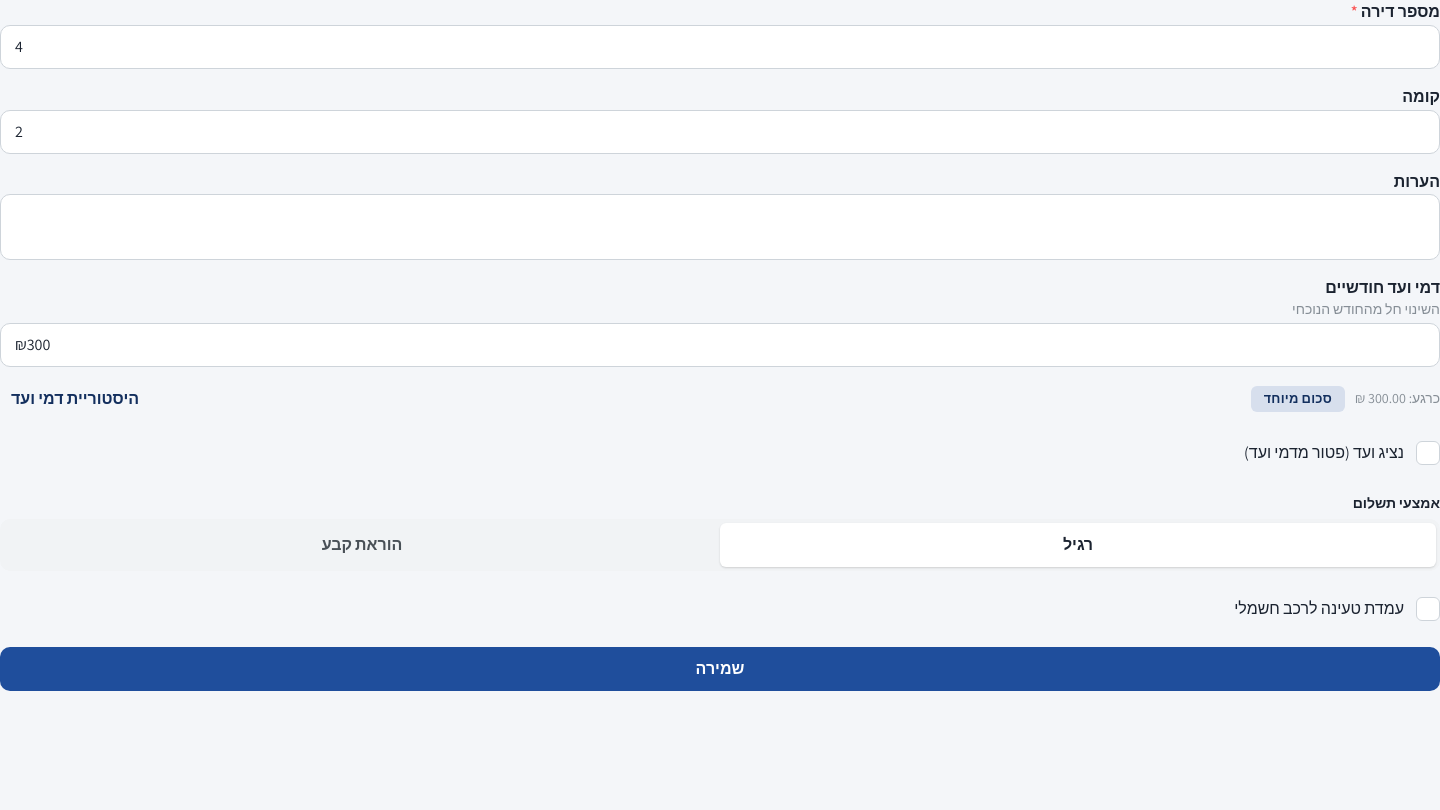
ApartmentForm with saved data › keeps an unsaved committee choice when the sheet refreshes the fee
Expected: the field labelled "דמי ועד חודשיים" holds "₪300", [0, 323, 1439, 367]
Click the checkbox labelled "נציג ועד (פטור מדמי ועד)" at (1428, 453), box [1416, 441, 1439, 465]
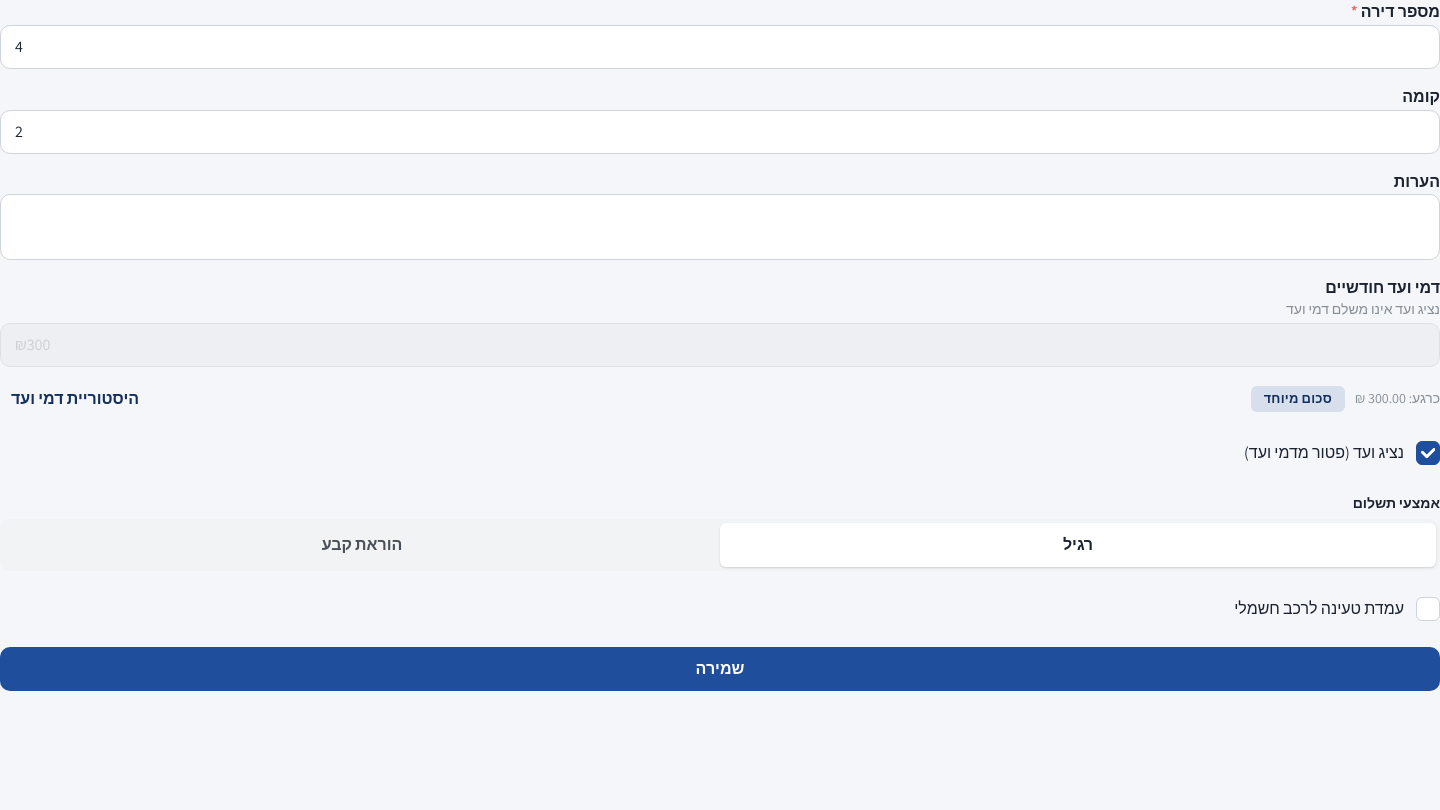
Click the button "היסטוריית דמי ועד" at (75, 399), box [0, 377, 150, 421]
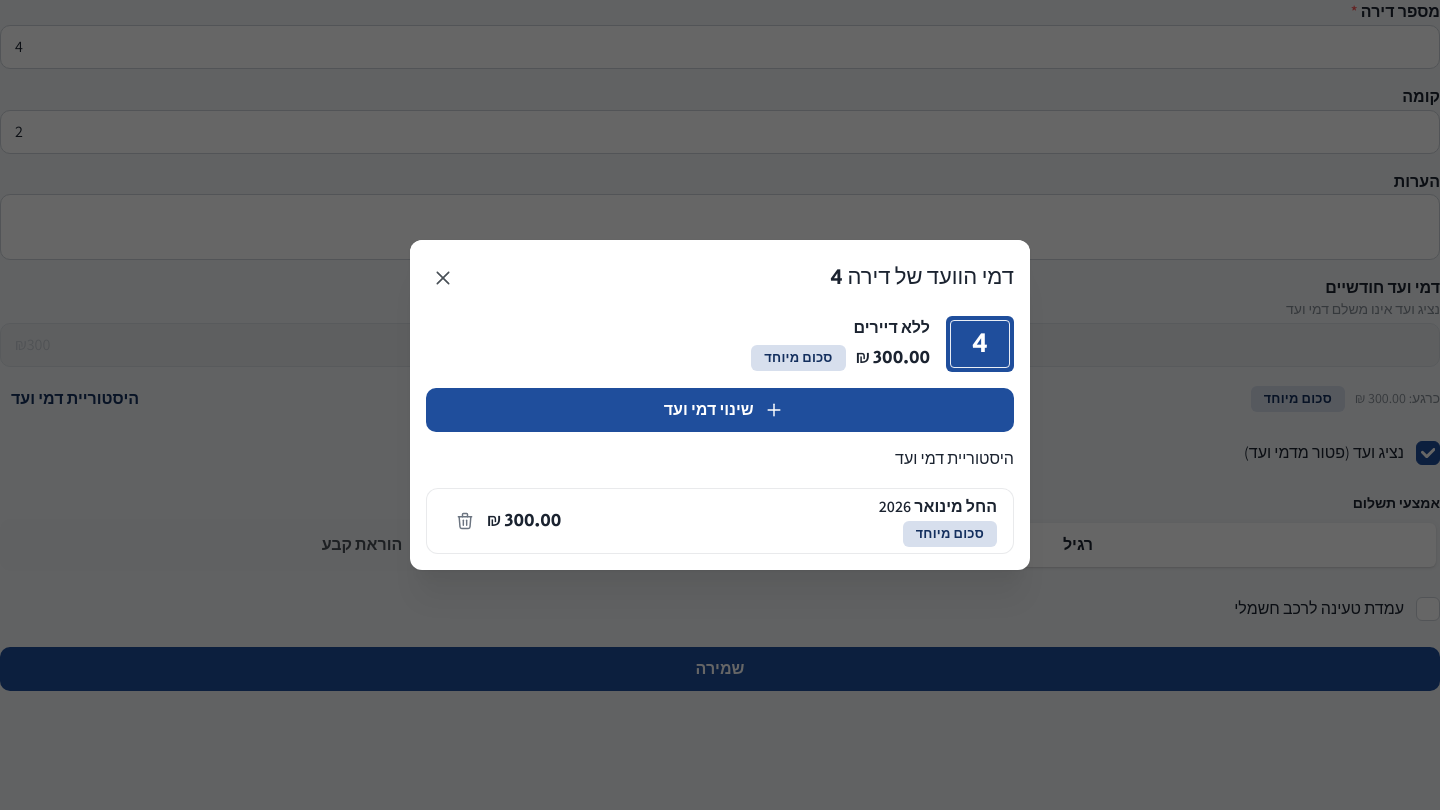
Click the button "שינוי דמי ועד" at (720, 410), box [426, 388, 1014, 432]
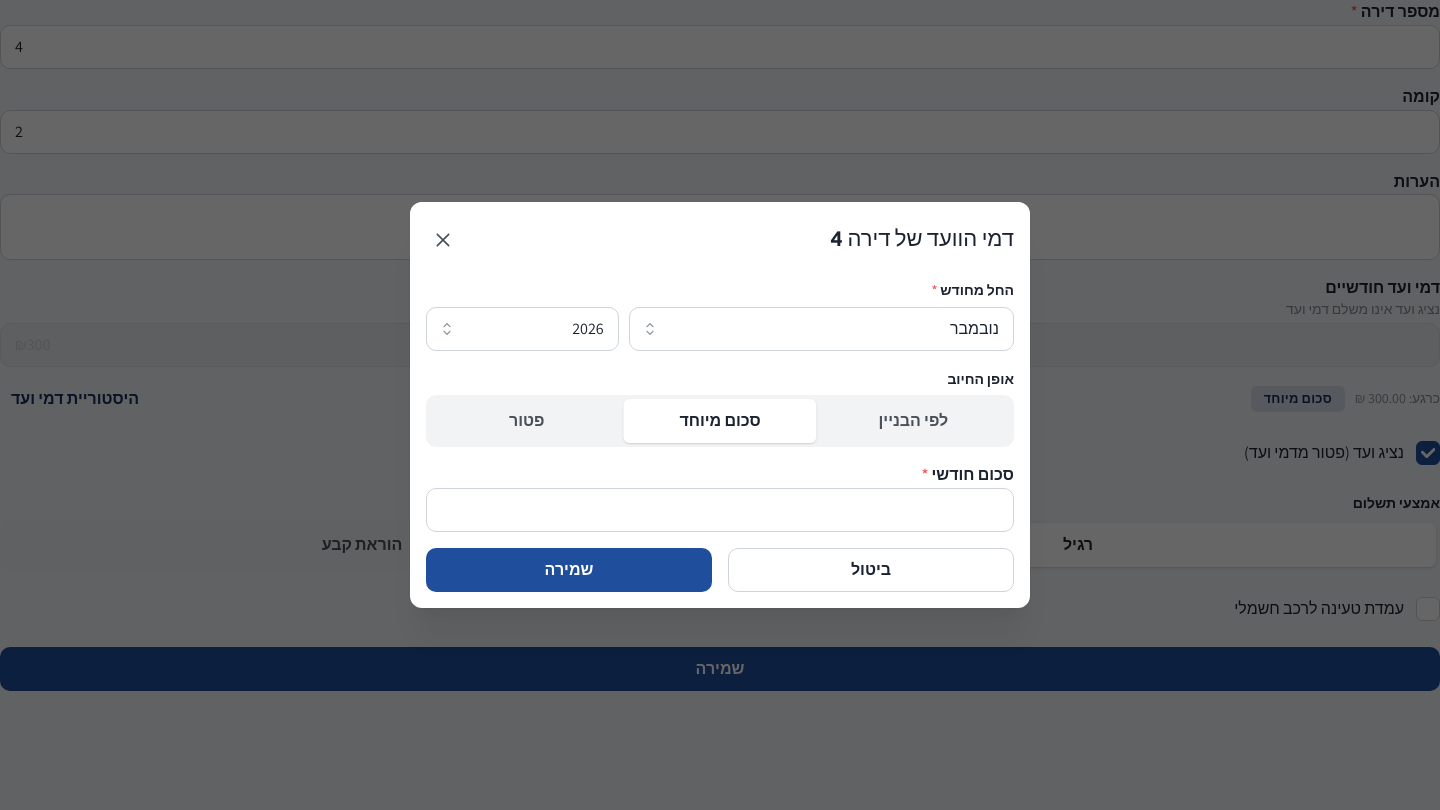
Type "450" into the field labelled "סכום חודשי *" at (720, 510), box [426, 488, 1014, 532]
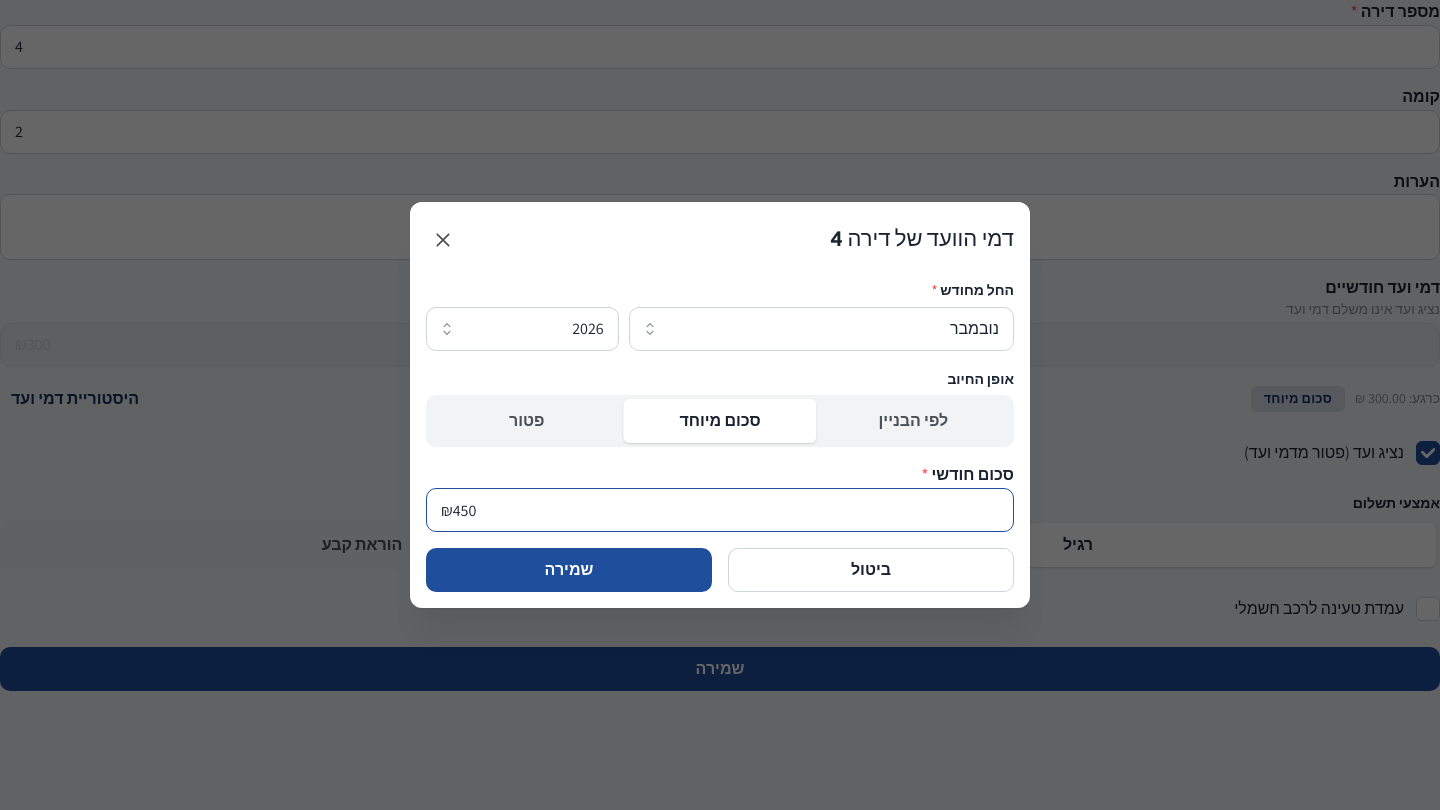
Click the button "שמירה" at (569, 570), box [426, 548, 712, 592]
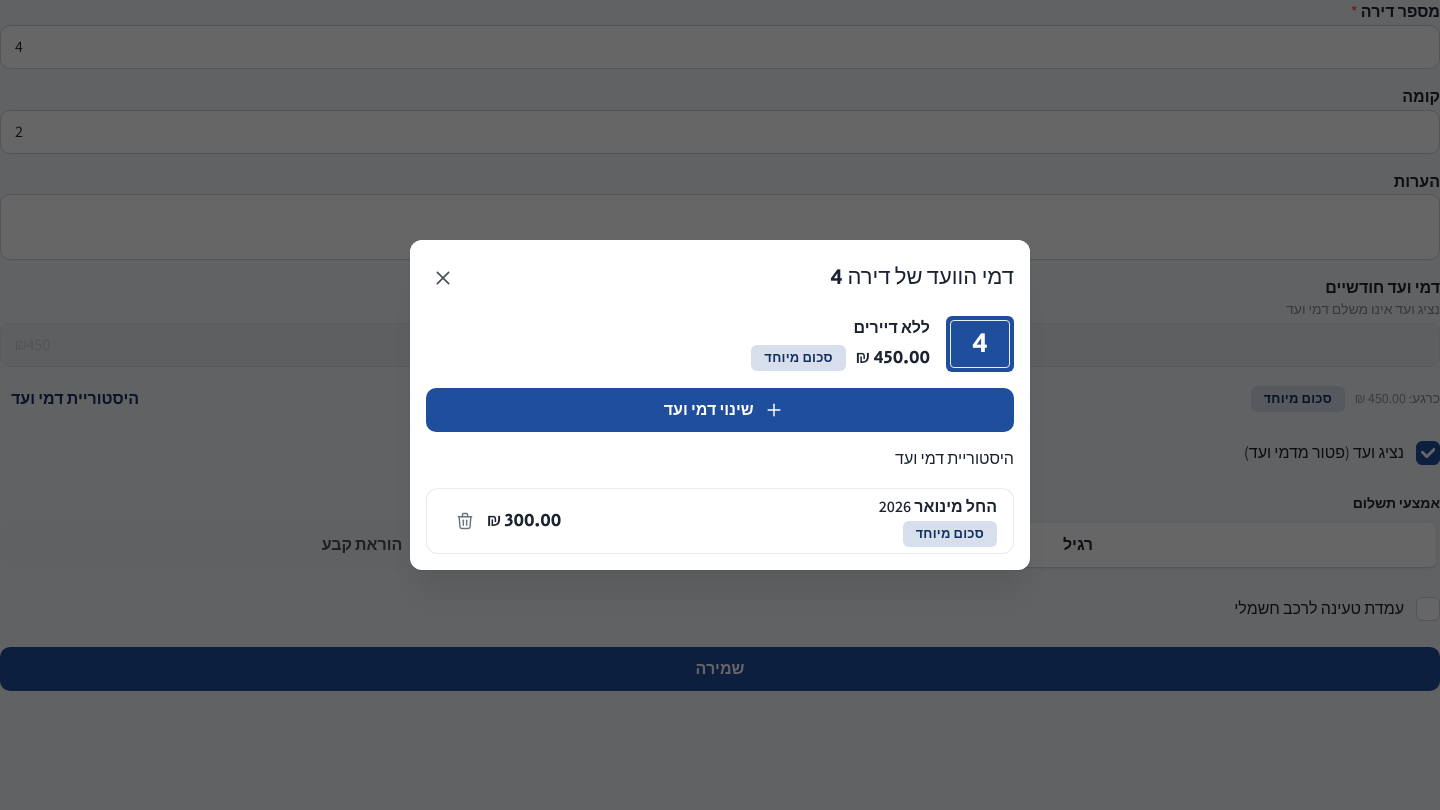
Expected: the checkbox labelled "נציג ועד (פטור מדמי ועד)" is checked, [1416, 441, 1439, 465]
Expected: the field labelled "דמי ועד חודשיים" holds "₪450", [0, 323, 1439, 367]
